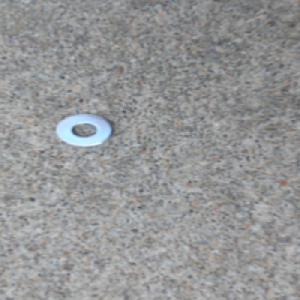Washer: (52, 112, 119, 150)
